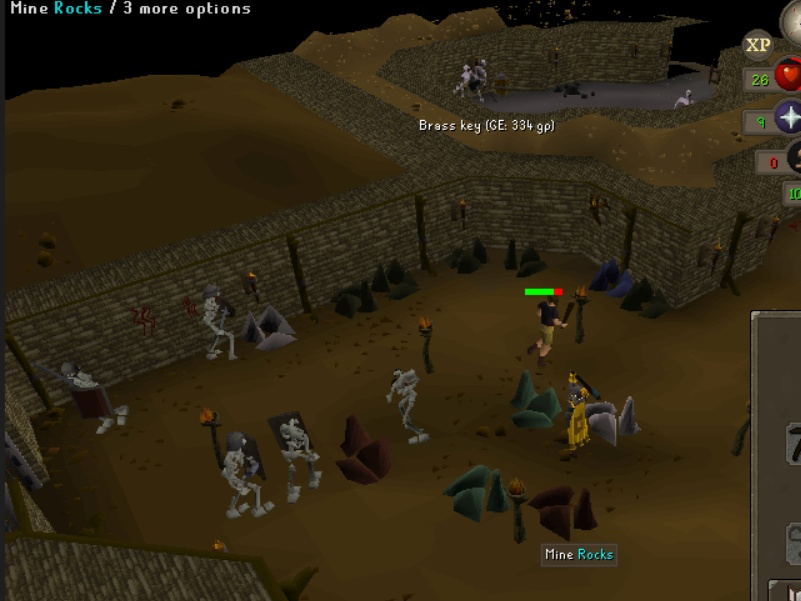adamant: (440, 460, 512, 528), (507, 369, 563, 430)
coal: (615, 276, 680, 322), (329, 278, 380, 325), (368, 255, 419, 302), (441, 230, 492, 277), (498, 232, 549, 279)
iron: (331, 411, 394, 485), (529, 482, 603, 544)
mithril: (587, 257, 634, 299)
silver: (580, 394, 647, 452)
tin: (238, 301, 301, 354)
